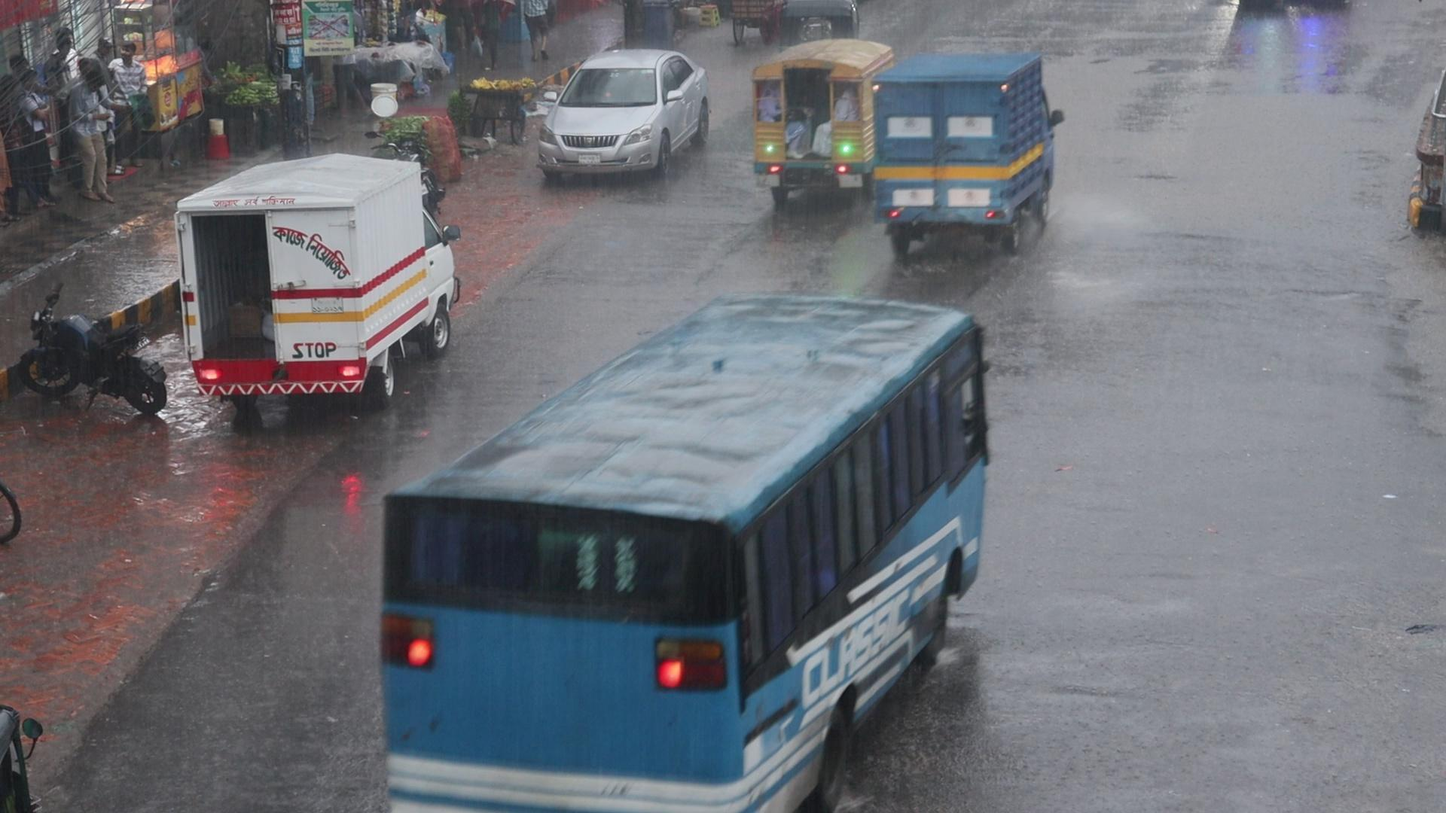Bus: (377, 289, 1000, 813)
Truck: (868, 44, 1065, 256), (750, 37, 874, 206)
